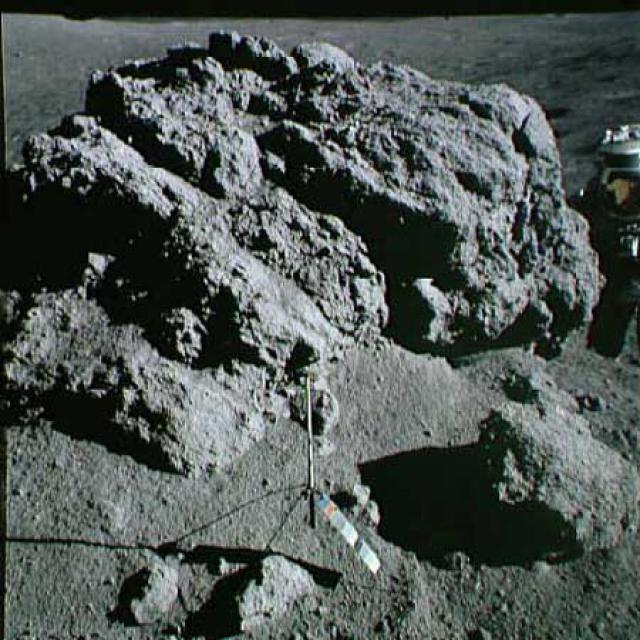artifact: (254, 372, 388, 578)
rock: (7, 25, 605, 474), (465, 364, 639, 549), (227, 555, 325, 638), (116, 558, 180, 622)
